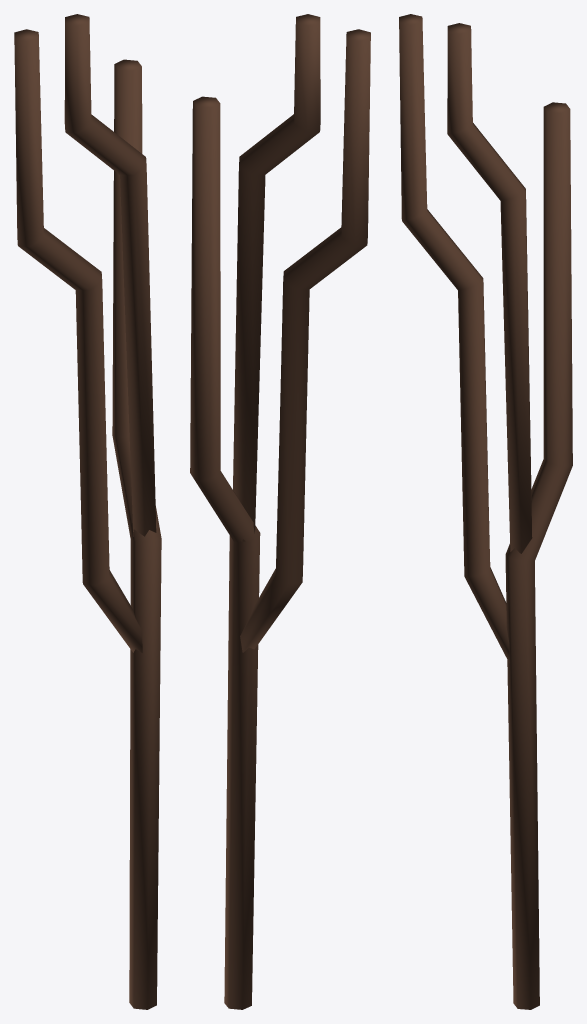
Rendered from ThinTree_Medium2.fbx.
3 views of the same model, side by side, from view 1: azimuth 30°, elevation 25°; view 2: azimuth 150°, elevation 25°; view 3: azimuth 330°, elevation 25° (orthographic). The views are drawn at different scales.
Parts seen in each view (by area): view 1: ThinTree_Medium2; view 2: ThinTree_Medium2; view 3: ThinTree_Medium2.
Boxes of the visible parts, left/top/right/bottom form: ThinTree_Medium2: left=14, top=14, right=161, bottom=1009; ThinTree_Medium2: left=190, top=14, right=370, bottom=1009; ThinTree_Medium2: left=399, top=14, right=572, bottom=1009.
Size of the model in its own units: 166 by 1043 by 83.3.
